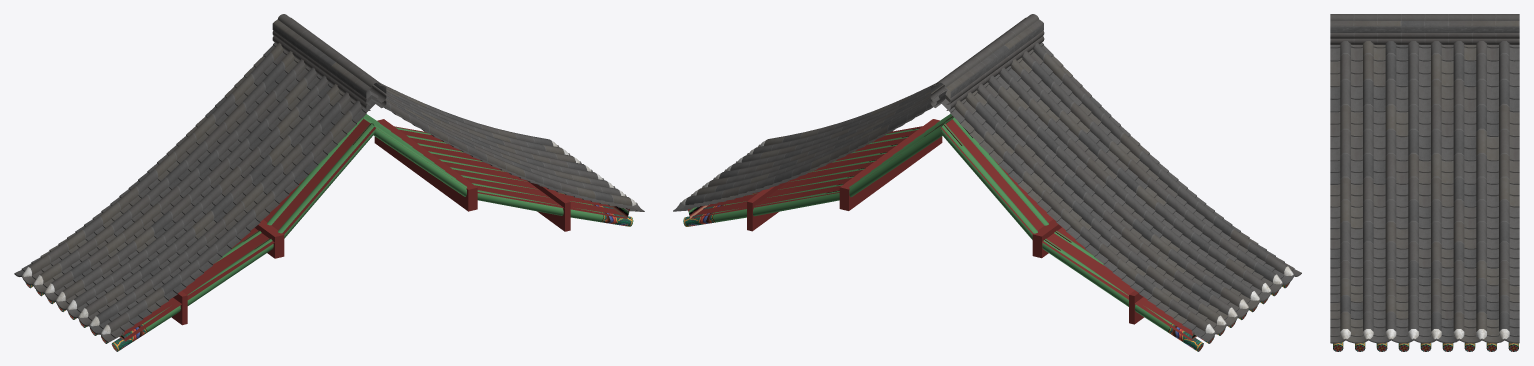
File: SM_Castle_Roof03a.fbx
3 renders of one model, left to right at view 1: azimuth 30°, elevation 25°; view 2: azimuth 150°, elevation 25°; view 3: azimuth 270°, elevation 25°, orthographic.
Parts seen in each view (by area): view 1: SM_Castle_Roof03a; view 2: SM_Castle_Roof03a; view 3: SM_Castle_Roof03a.
Boxes of the visible parts, x1,y1,x2,y2 form: SM_Castle_Roof03a: [14, 14, 644, 351]; SM_Castle_Roof03a: [673, 14, 1301, 351]; SM_Castle_Roof03a: [1330, 14, 1519, 351].
Size of the model in its own units: 826 by 250 by 308.
Materials: 2 (2 with a texture image).
